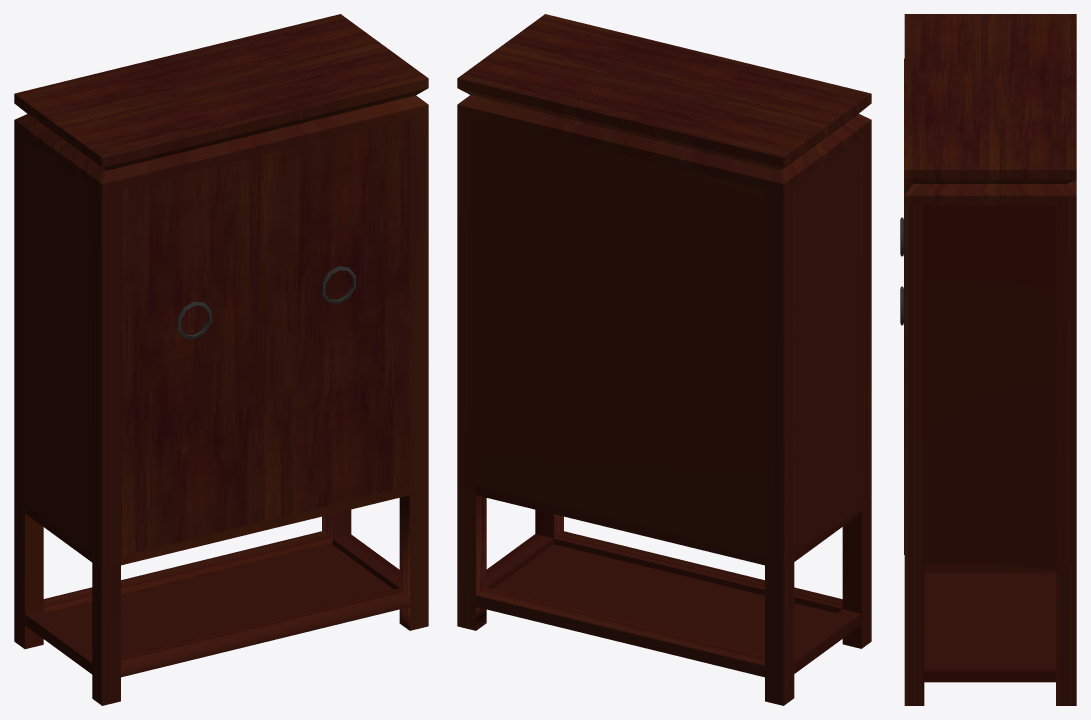
The model's file is Cupboard.fbx.
The picture shows the model from 3 angles, left to right: view 1: azimuth 30°, elevation 25°; view 2: azimuth 150°, elevation 25°; view 3: azimuth 270°, elevation 25°; orthographic projection. The views are drawn at different scales.
Visible parts, largest first — view 1: Cupboard, Cupboard_Door1, Cupboard_Door2; view 2: Cupboard; view 3: Cupboard, Cupboard_Door1.
Part boxes in pixels (x1,y1,x2,y2): Cupboard: (14,14,428,705); Cupboard_Door1: (265,119,409,520); Cupboard_Door2: (121,154,265,556); Cupboard: (457,14,871,705); Cupboard: (904,14,1076,705); Cupboard_Door1: (900,127,904,554).
Bounding box in the file's own units: 0.9951 × 1.6 × 0.4761.
2 materials, 1 textured.
